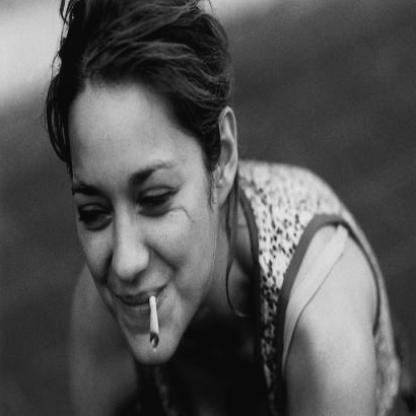cigarette: (148, 295, 160, 352)
person: (47, 0, 372, 415)
